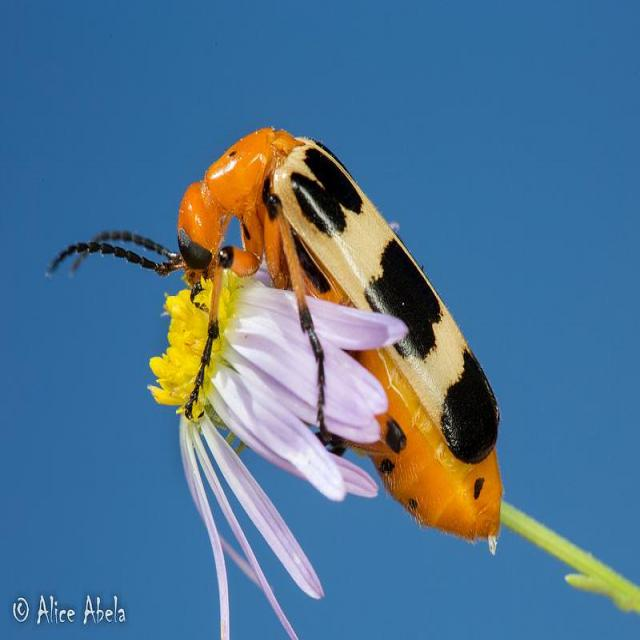BlisterBeetle-Adult-: (95, 109, 516, 556)
